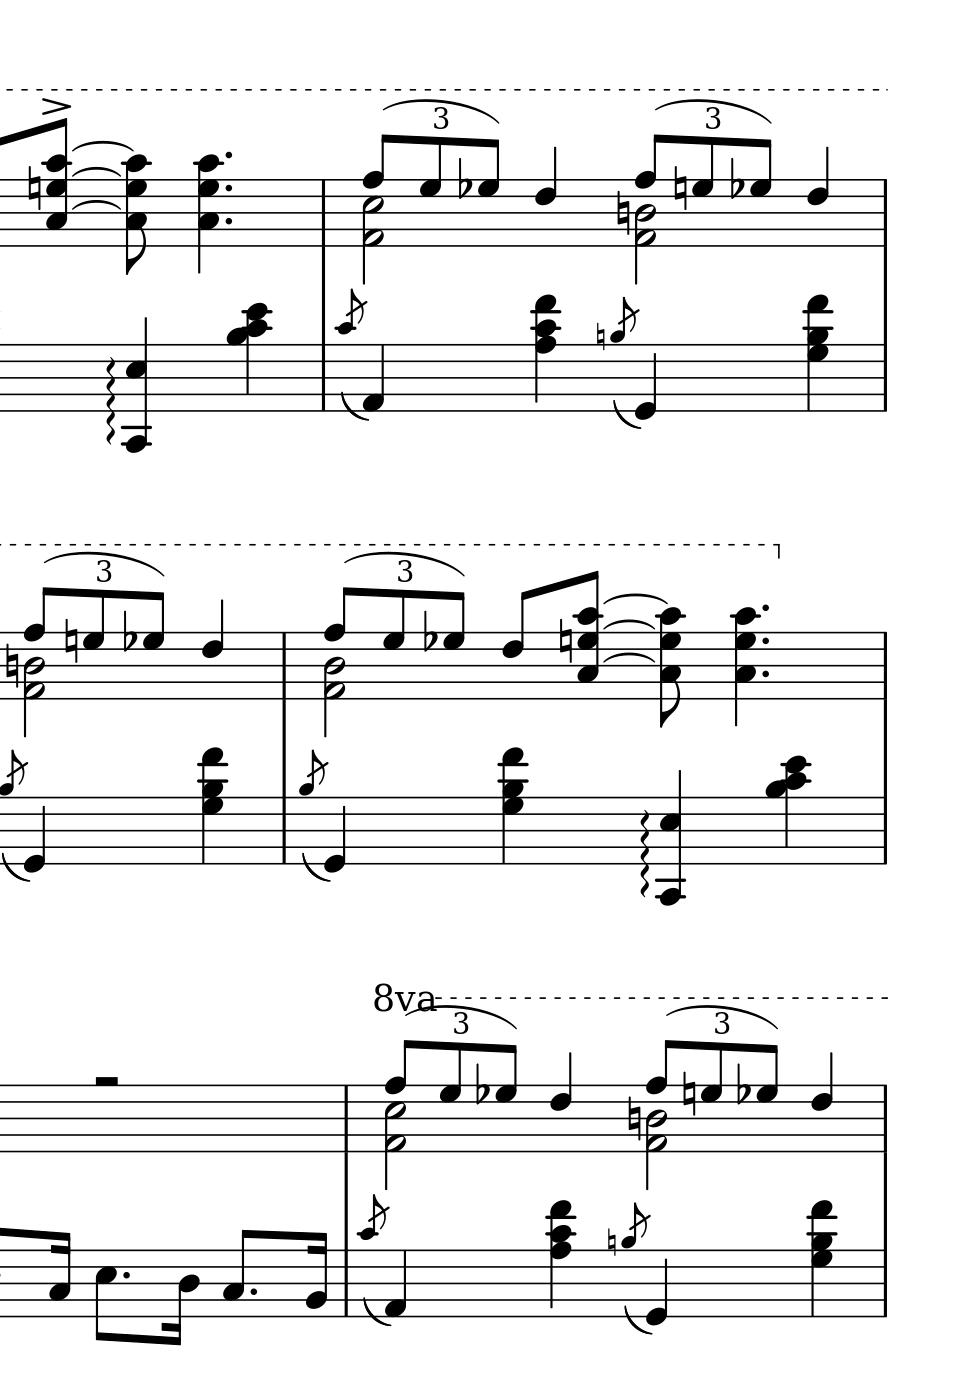16_2: (303, 1231, 330, 1320)
16_3: (47, 1229, 72, 1319)
16_4: (163, 1247, 199, 1348)
3: (430, 107, 450, 131), (395, 560, 414, 585), (712, 1012, 731, 1037), (452, 1011, 469, 1036), (703, 108, 721, 131), (95, 560, 112, 584)
4_-4_5: (654, 770, 687, 907)
4_0: (645, 1249, 669, 1328), (23, 795, 47, 875), (323, 795, 347, 875), (635, 343, 657, 423)
4_1: (360, 343, 386, 414), (383, 1249, 408, 1320)
4_6: (809, 1050, 834, 1155), (533, 145, 558, 249), (805, 145, 829, 249), (200, 598, 225, 702), (549, 1050, 573, 1155)
4_th: (766, 756, 813, 865), (543, 1193, 579, 1317), (528, 288, 562, 413), (804, 1194, 837, 1319), (196, 741, 228, 869), (801, 290, 832, 413), (497, 745, 528, 865)
8_3: (221, 1227, 253, 1319)
8_5: (93, 1247, 117, 1344)
8_6: (500, 587, 533, 703)
8_7: (418, 136, 443, 248), (141, 590, 167, 702), (381, 589, 406, 701), (437, 1041, 462, 1154), (81, 587, 105, 703), (749, 137, 773, 248), (699, 1042, 723, 1154), (476, 137, 501, 247), (441, 590, 466, 700), (690, 137, 714, 248), (755, 1043, 778, 1154), (494, 1043, 518, 1153)
8_th: (43, 116, 70, 247)
Accent_above: (41, 97, 69, 115)
Acciaccature: (332, 290, 366, 411), (607, 298, 640, 408), (297, 749, 329, 859), (1, 750, 29, 871)
Arpeggio: (104, 354, 117, 448), (638, 808, 651, 901)
Flat: (420, 607, 437, 653), (455, 155, 472, 200), (120, 608, 137, 653), (472, 1060, 489, 1105), (728, 155, 743, 200), (734, 1060, 750, 1105)
Natural: (25, 163, 43, 213), (3, 641, 20, 692), (556, 616, 573, 666), (625, 1094, 642, 1144), (680, 1069, 697, 1119), (671, 164, 688, 213), (62, 617, 78, 666), (614, 189, 630, 238), (605, 1226, 617, 1258), (594, 321, 606, 352)
Rests2: (89, 1070, 124, 1092)
Single_barline: (875, 797, 893, 864), (314, 345, 332, 410), (876, 179, 893, 246), (876, 632, 893, 699), (876, 1250, 893, 1317), (275, 797, 292, 863), (275, 633, 292, 698), (876, 344, 892, 411), (338, 1249, 354, 1317), (315, 181, 331, 245), (877, 1085, 892, 1152), (338, 1086, 353, 1151)
Slur: (343, 550, 468, 579), (657, 97, 774, 124), (43, 551, 167, 576), (668, 1004, 780, 1030), (383, 97, 498, 121), (406, 1006, 517, 1031), (620, 1305, 655, 1336), (609, 400, 645, 429), (360, 1298, 392, 1329), (339, 391, 370, 422), (68, 195, 123, 212), (72, 139, 134, 153), (69, 165, 123, 179), (603, 593, 666, 604), (603, 652, 655, 664), (602, 620, 655, 630)
dot: (222, 214, 235, 228), (222, 182, 237, 195), (119, 1268, 132, 1283), (758, 634, 772, 647), (221, 150, 235, 161), (759, 667, 772, 680), (758, 602, 772, 614), (247, 1285, 258, 1298)
